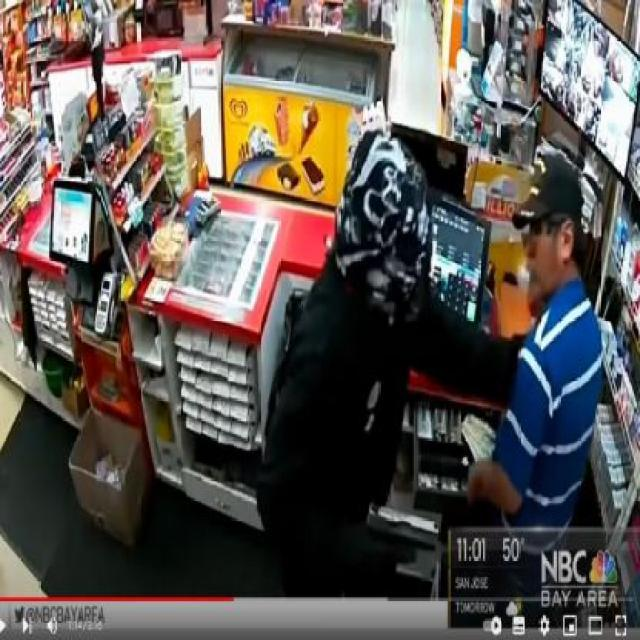weapon: (353, 510, 441, 588)
